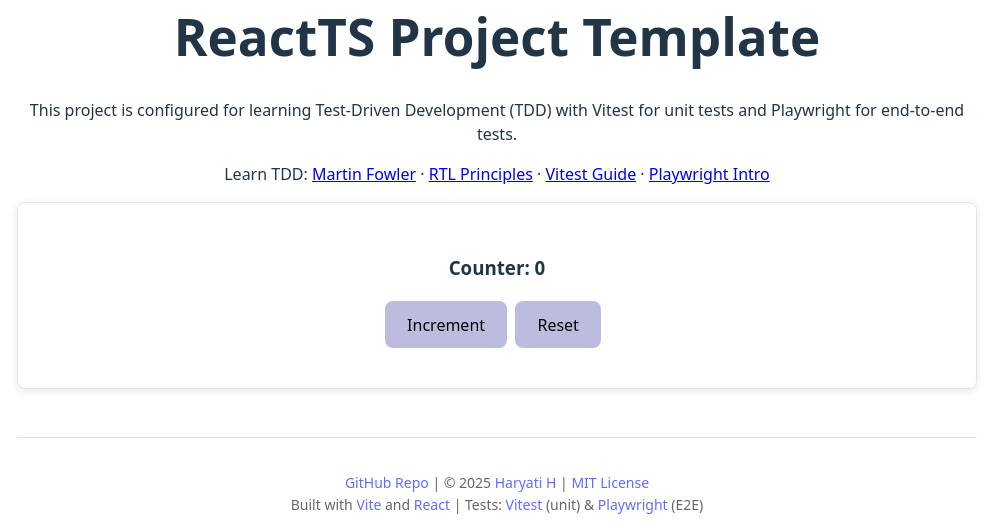
Scenario: App component › User Interactions › increments counter when button is clicked
Step 1. Click the button "Increment" → x=446, y=324, box [385,301,507,348]
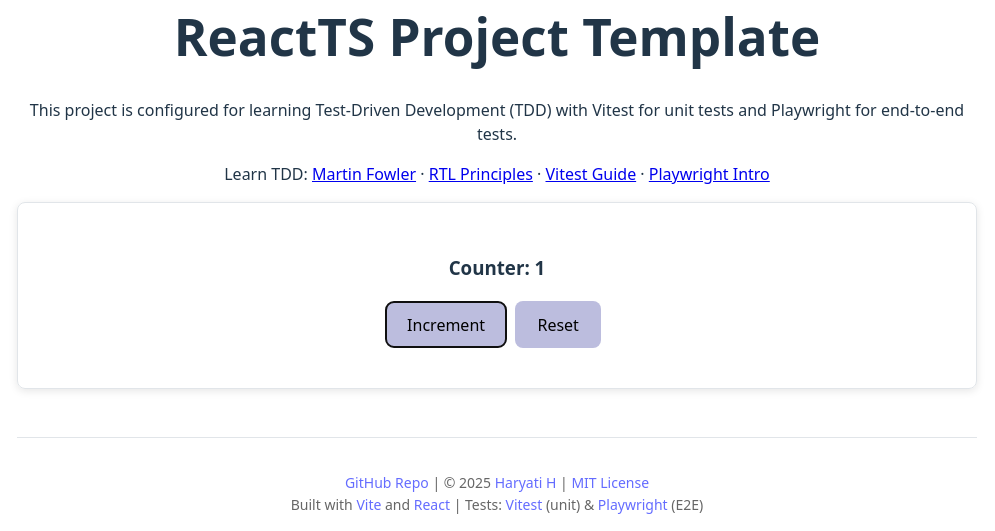
Expected: the heading "Counter: 1" is shown, [449,255,545,280]
